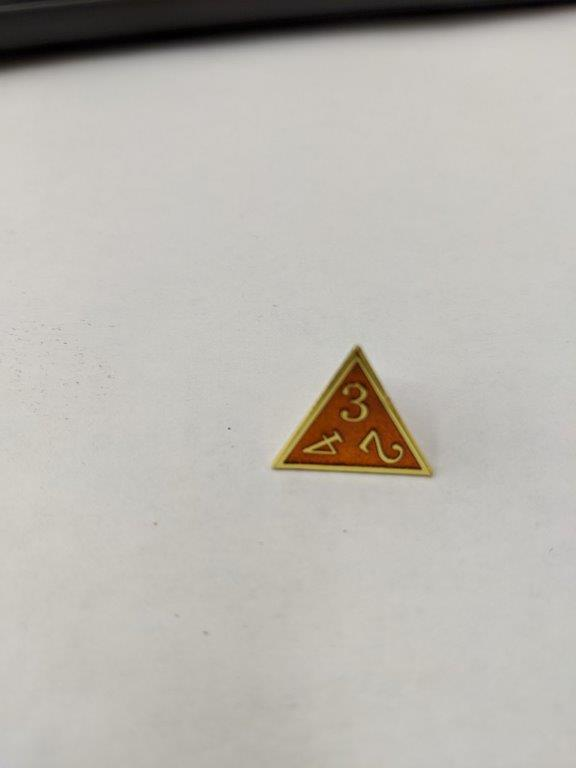d4-3: (267, 336, 439, 486)
